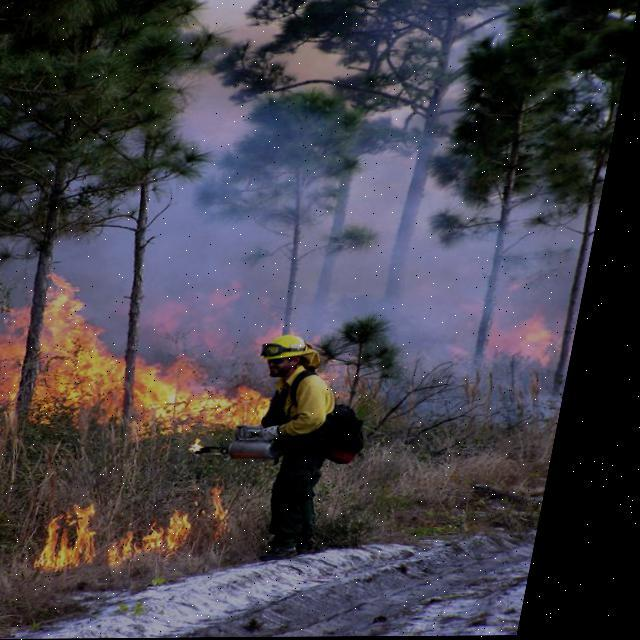Fire: (0, 280, 306, 434), (65, 476, 269, 572), (454, 292, 580, 370)
